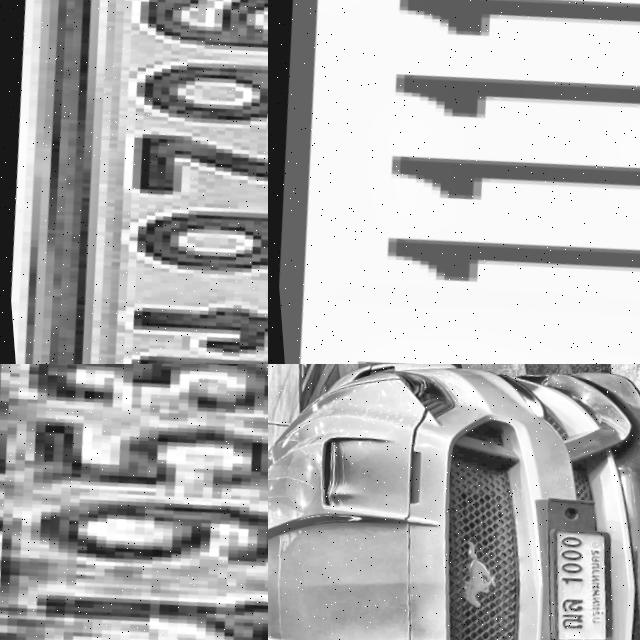license-plate: (268, 0, 640, 364), (0, 0, 268, 364), (0, 364, 268, 640), (529, 530, 614, 640)
